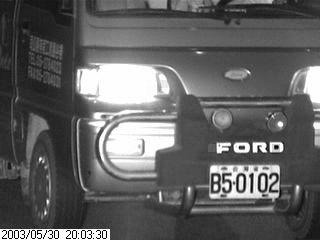plate: (210, 162, 283, 200)
